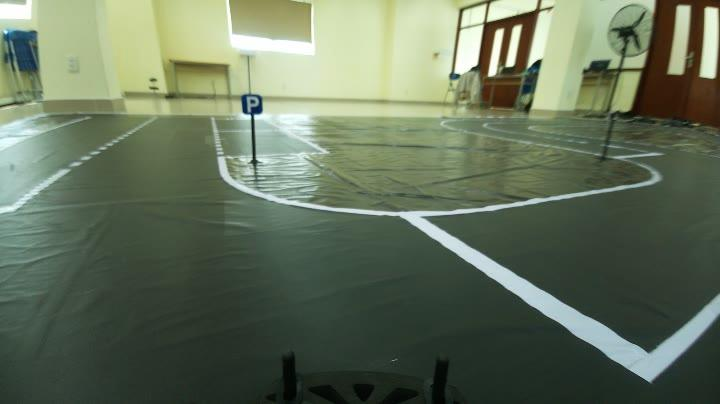parking: (234, 92, 273, 118)
